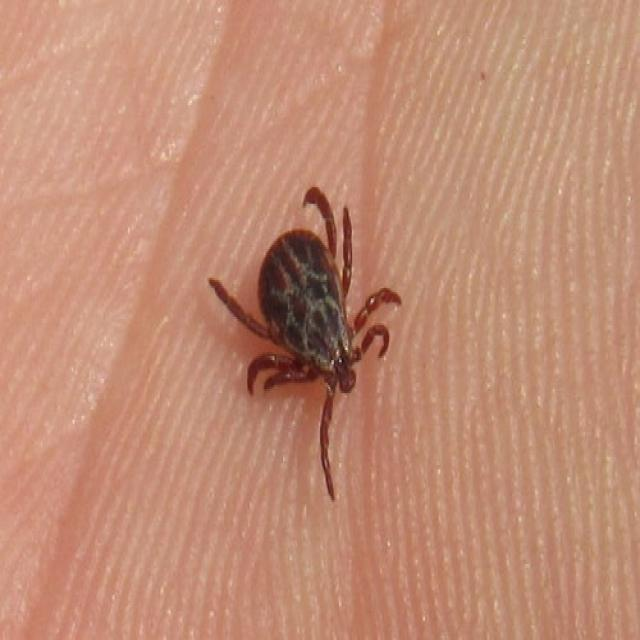Dermacentor Reticulatus-M: (209, 187, 403, 502)
